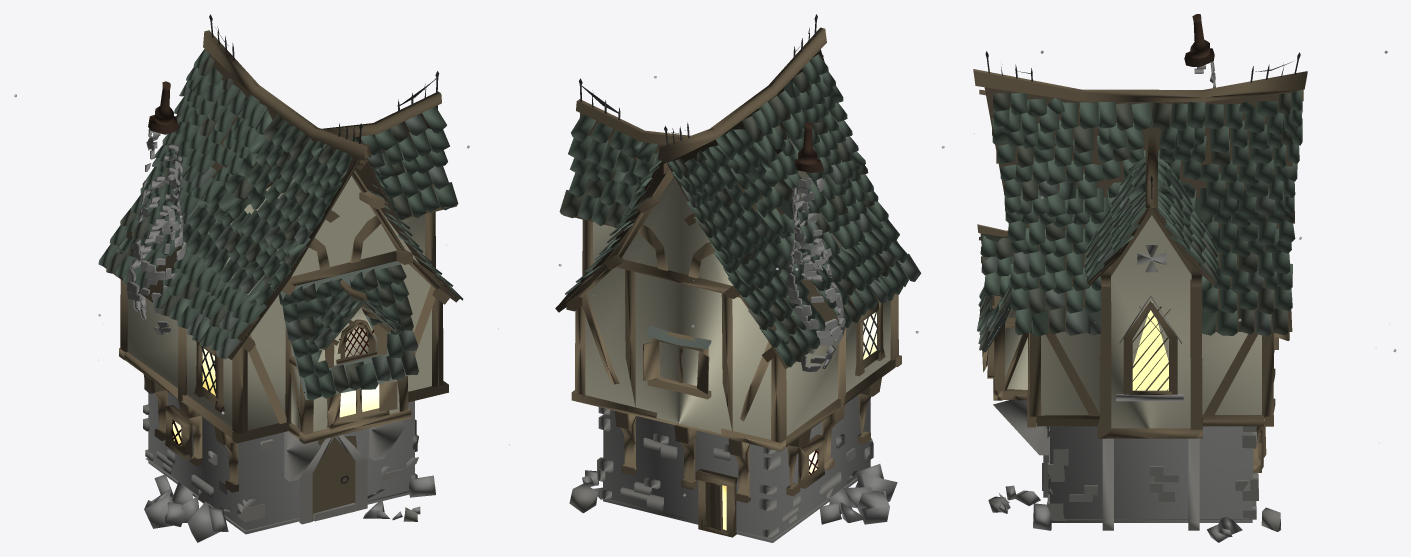
The model's file is cottage_new.glb.
3 renders of one model, left to right at view 1: azimuth 30°, elevation 25°; view 2: azimuth 150°, elevation 25°; view 3: azimuth 270°, elevation 25°, orthographic. The views are drawn at different scales.
Visible parts, largest first — view 1: polySurface141_Roof_tiles_light_0, polySurface141_Stone_light_0, polySurface141_Wall_stucco_0, polySurface141_Wood_beams_0, polySurface141_Roof_tiles_medium_0, polySurface141_Wood_beams_light_0, polySurface141_Stone_dark_0, polySurface141_Roof_tiles_extra_0, polySurface141_Wood_beamS_DARK_0, polySurface141_Wood_beams_roof_0, polySurface141_Window_light_0, polySurface141_Metall_black1_0 (+1 smaller); view 2: polySurface141_Roof_tiles_light_0, polySurface141_Wall_stucco_0, polySurface141_Stone_light_0, polySurface141_Wood_beams_0, polySurface141_Wood_beams_light_0, polySurface141_Roof_tiles_medium_0, polySurface141_Stone_dark_0, polySurface141_Wood_beamS_DARK_0, polySurface141_Wood_beams_roof_0, polySurface141_Roof_tiles_extra_0, polySurface141_Metall_black1_0, polySurface141_Window_light_0; view 3: polySurface141_Roof_tiles_light_0, polySurface141_Wall_stucco_0, polySurface141_Stone_light_0, polySurface141_Wood_beams_0, polySurface141_Stone_dark_0, polySurface141_Roof_tiles_medium_0, polySurface141_Wood_beamS_DARK_0, polySurface141_Wood_beams_roof_0, polySurface141_Roof_tiles_extra_0, polySurface141_Window_light_0, polySurface141_Wood_beams_light_0, polySurface141_Metall_oxydedark_0.
Part boxes in pixels (box(x1,y1,x2,y2)): polySurface141_Roof_tiles_light_0: box(98, 49, 463, 400); polySurface141_Stone_light_0: box(126, 128, 435, 542); polySurface141_Wall_stucco_0: box(127, 164, 432, 431); polySurface141_Wood_beams_0: box(120, 30, 450, 492); polySurface141_Roof_tiles_medium_0: box(106, 55, 418, 392); polySurface141_Wood_beams_light_0: box(119, 191, 448, 466); polySurface141_Stone_dark_0: box(143, 379, 418, 531); polySurface141_Roof_tiles_extra_0: box(175, 81, 449, 399); polySurface141_Wood_beamS_DARK_0: box(143, 91, 443, 520); polySurface141_Wood_beams_roof_0: box(103, 51, 459, 359); polySurface141_Window_light_0: box(173, 348, 379, 445); polySurface141_Metall_black1_0: box(201, 14, 439, 483); polySurface141_Roof_tiles_light_0: box(565, 54, 908, 367); polySurface141_Wall_stucco_0: box(585, 138, 890, 439); polySurface141_Stone_light_0: box(582, 177, 897, 542); polySurface141_Wood_beams_0: box(566, 27, 898, 537); polySurface141_Wood_beams_light_0: box(571, 196, 901, 530); polySurface141_Roof_tiles_medium_0: box(559, 72, 890, 362); polySurface141_Stone_dark_0: box(569, 407, 873, 540); polySurface141_Wood_beamS_DARK_0: box(576, 55, 823, 448); polySurface141_Wood_beams_roof_0: box(555, 49, 908, 369); polySurface141_Roof_tiles_extra_0: box(588, 136, 921, 349); polySurface141_Metall_black1_0: box(579, 14, 878, 356); polySurface141_Window_light_0: box(722, 312, 876, 530); polySurface141_Roof_tiles_light_0: box(977, 90, 1302, 336); polySurface141_Wall_stucco_0: box(1005, 215, 1264, 428); polySurface141_Stone_light_0: box(998, 61, 1253, 542); polySurface141_Wood_beams_0: box(973, 69, 1307, 472); polySurface141_Stone_dark_0: box(988, 245, 1281, 531); polySurface141_Roof_tiles_medium_0: box(979, 92, 1294, 350); polySurface141_Wood_beamS_DARK_0: box(979, 89, 1303, 426); polySurface141_Wood_beams_roof_0: box(984, 87, 1296, 331); polySurface141_Roof_tiles_extra_0: box(978, 101, 1302, 352); polySurface141_Window_light_0: box(1132, 301, 1168, 390); polySurface141_Wood_beams_light_0: box(982, 152, 1289, 472); polySurface141_Metall_oxydedark_0: box(1190, 14, 1209, 58).
Bounding box in the file's own units: 7.85 × 10.06 × 8.72.
